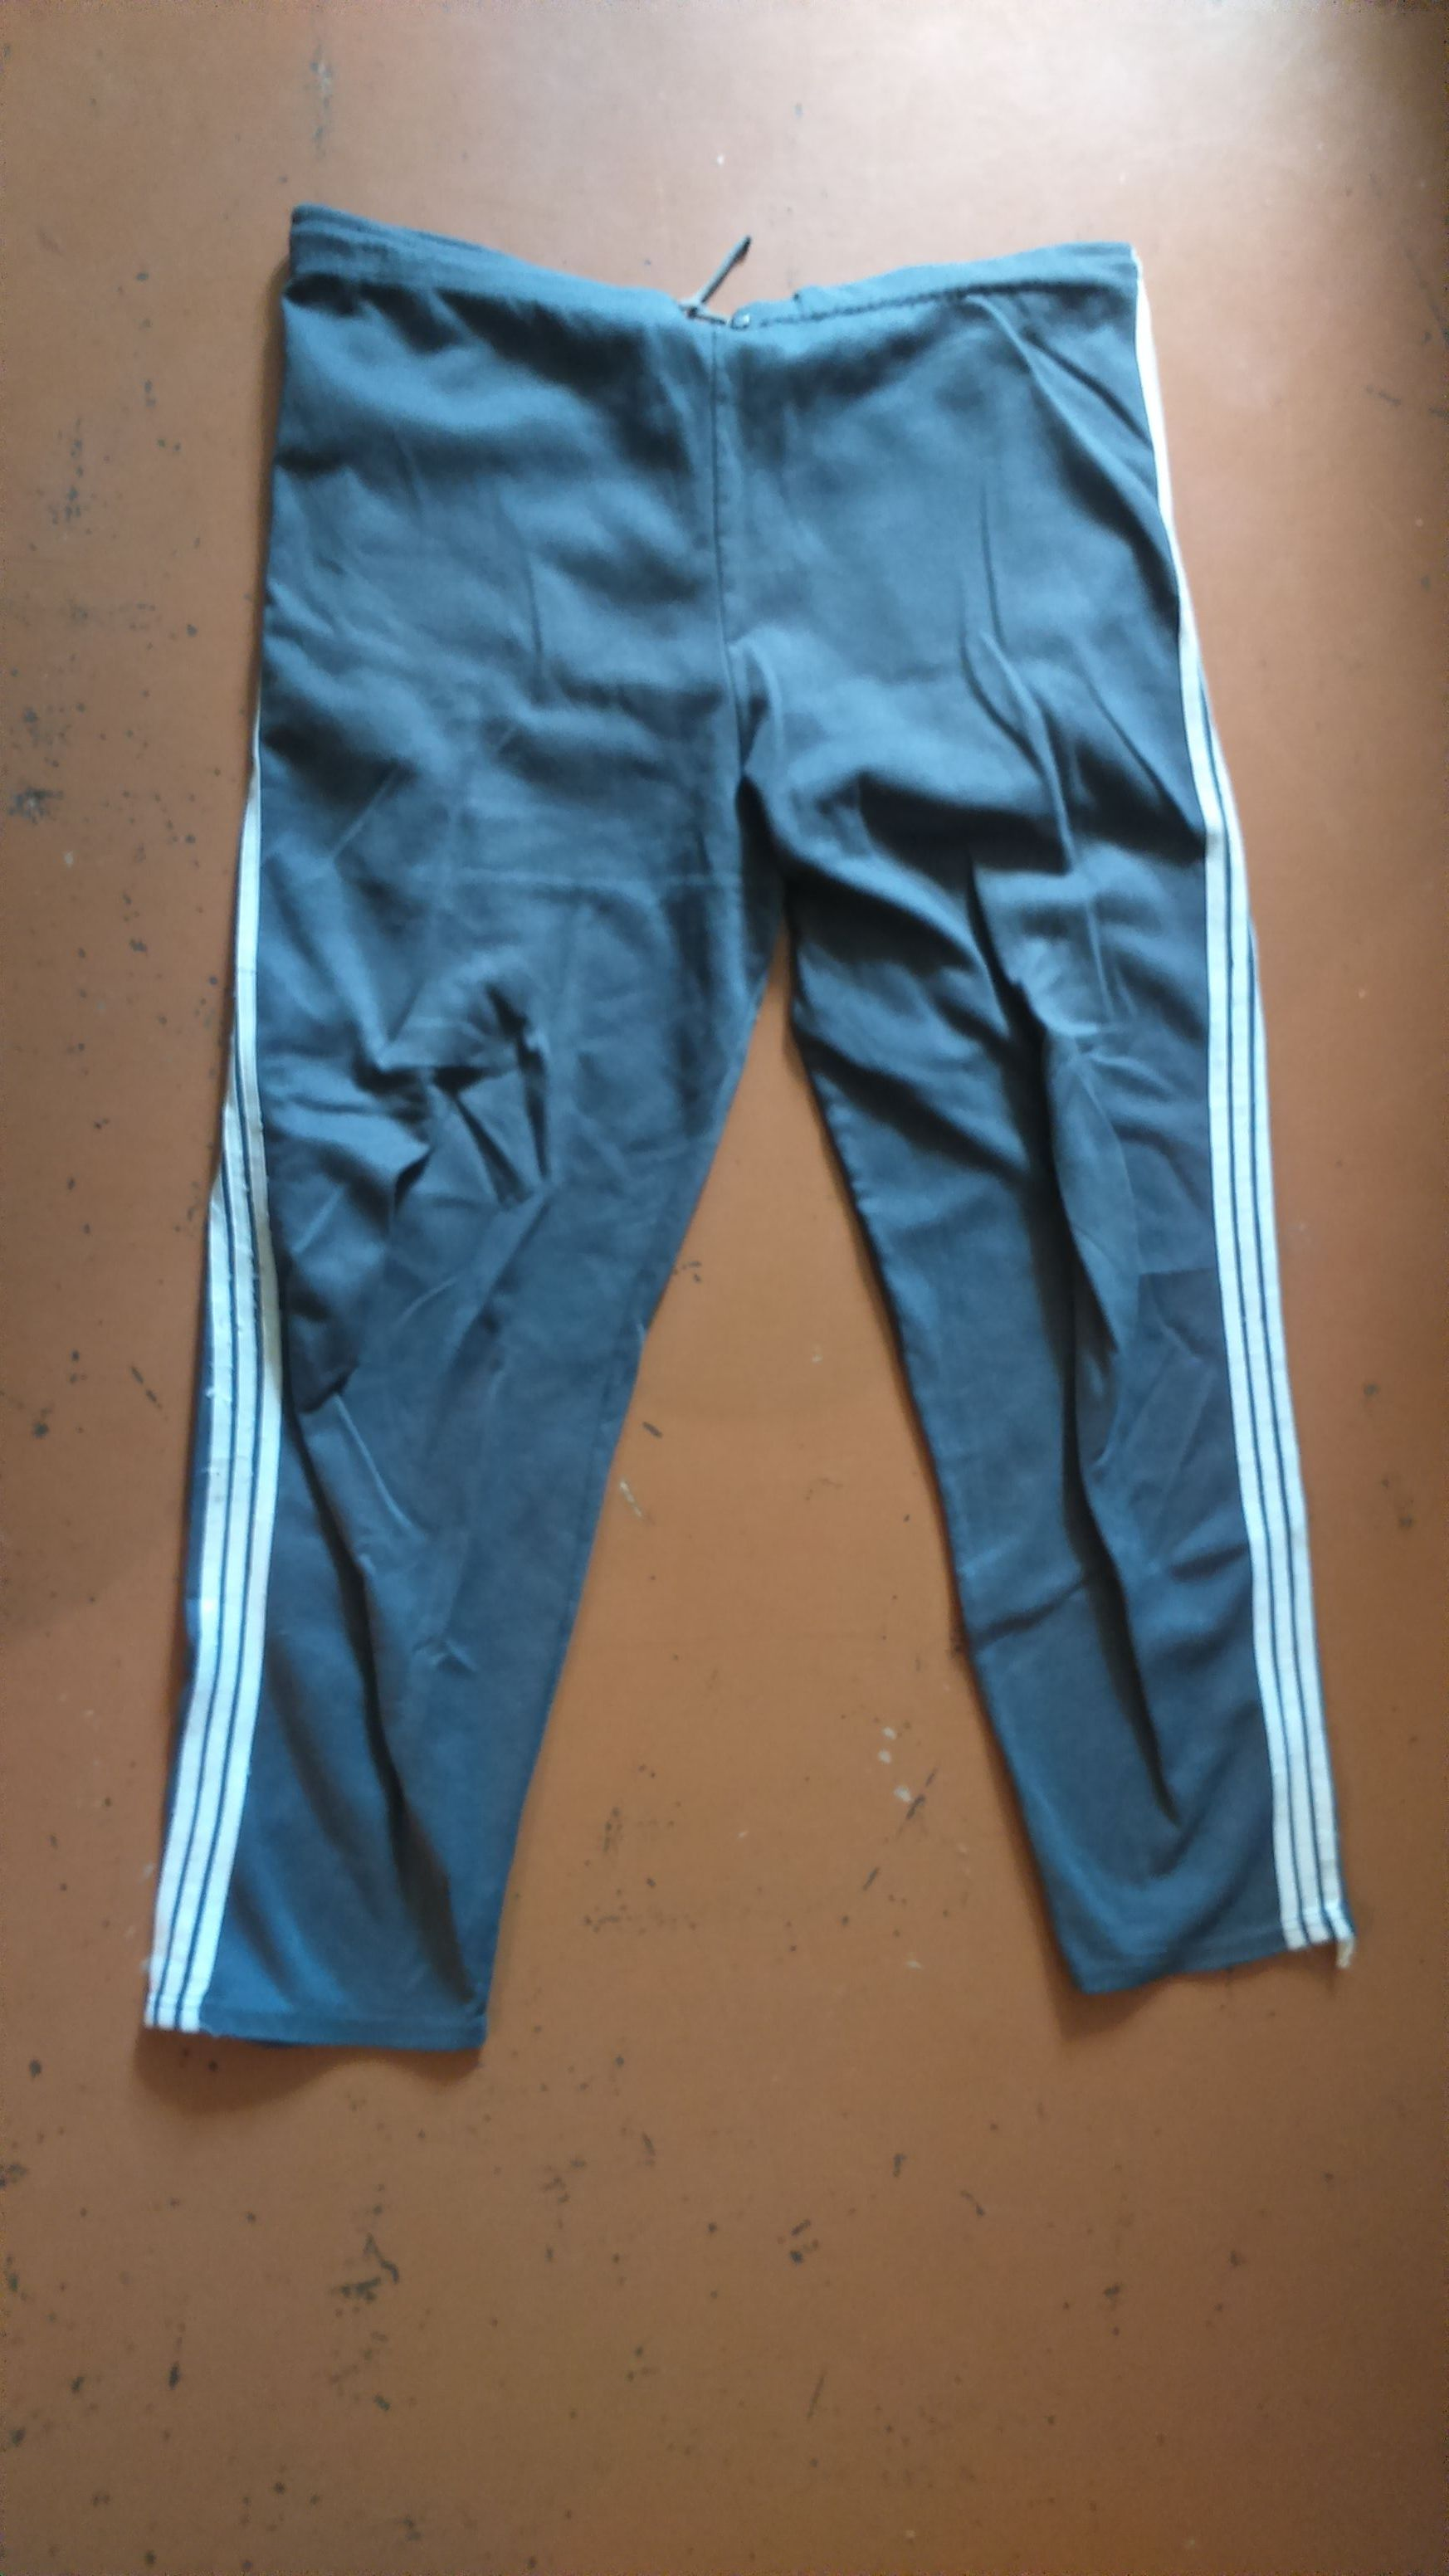clothes: (127, 198, 1387, 2089)
